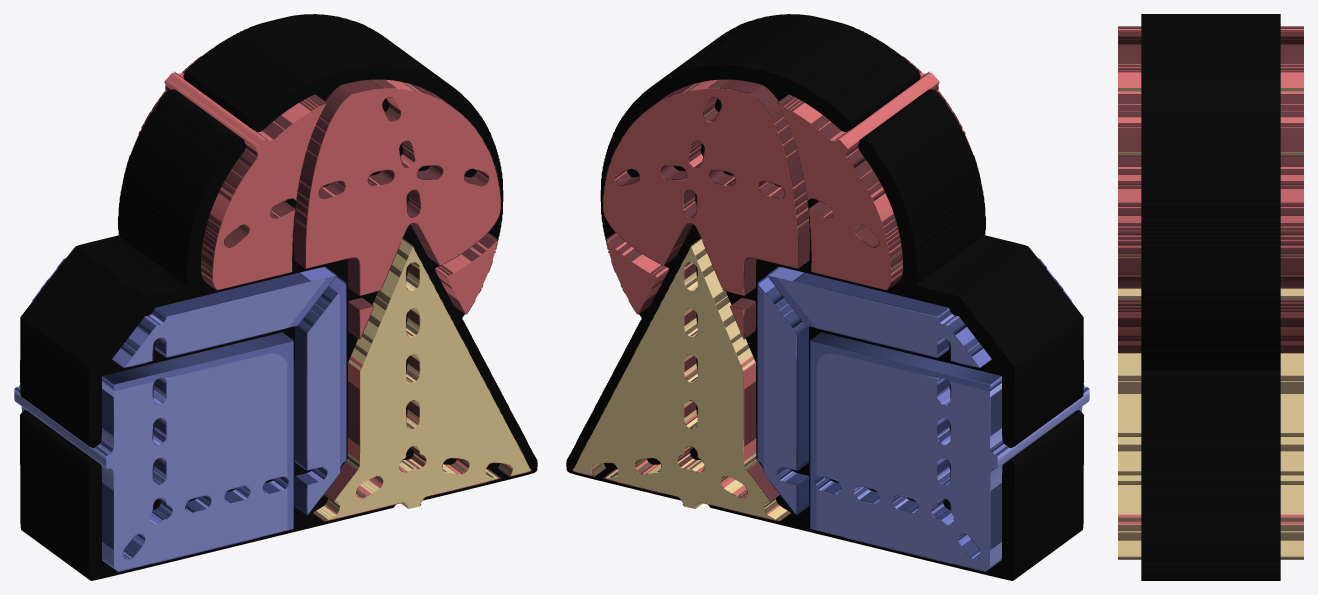
File: math.fbx
3 views of the same model, side by side, from view 1: azimuth 30°, elevation 25°; view 2: azimuth 150°, elevation 25°; view 3: azimuth 270°, elevation 25° (orthographic).
Parts seen in each view (by area): view 1: path2, path0, path1, path3, path5, path4, path8, path6, path7; view 2: path2, path0, path1, path3, path5, path4, path8, path6, path7; view 3: path2, path5, path3, path1, path7.
Part boxes in pixels (x1,y1,x2,y2): path2: [20, 14, 537, 580]; path0: [14, 278, 339, 570]; path1: [130, 55, 530, 520]; path3: [316, 239, 530, 519]; path5: [125, 56, 531, 521]; path4: [15, 258, 346, 571]; path8: [14, 272, 346, 564]; path6: [20, 258, 339, 559]; path7: [158, 82, 531, 521]; path2: [566, 14, 1083, 580]; path0: [764, 278, 1089, 570]; path1: [573, 55, 973, 520]; path3: [573, 239, 787, 519]; path5: [572, 56, 978, 521]; path4: [757, 258, 1088, 571]; path8: [757, 272, 1089, 564]; path6: [764, 258, 1083, 559]; path7: [572, 82, 945, 521]; path2: [1141, 14, 1280, 580]; path5: [1118, 26, 1303, 559]; path3: [1118, 288, 1303, 556]; path1: [1118, 29, 1303, 524]; path7: [1118, 88, 1303, 558].
Bounding box in the file's own units: 11.28 × 10.81 × 4.
